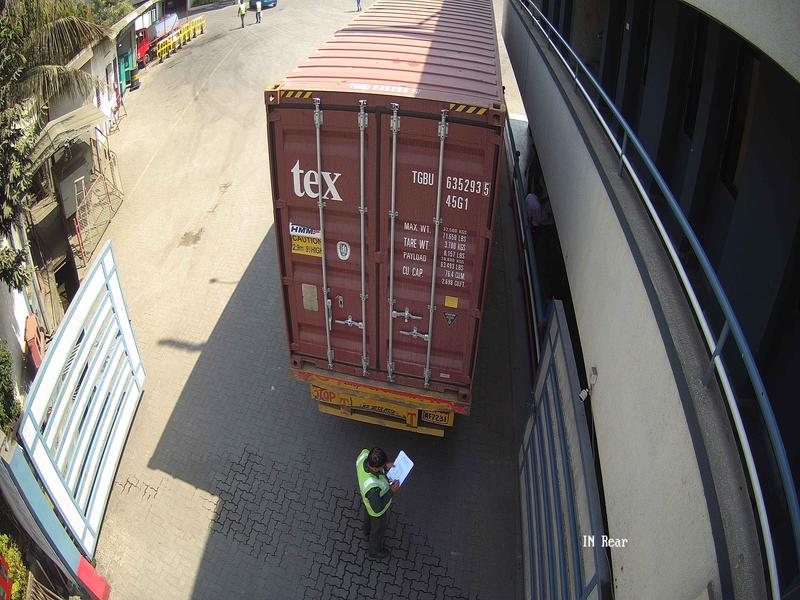container: (255, 84, 507, 438)
